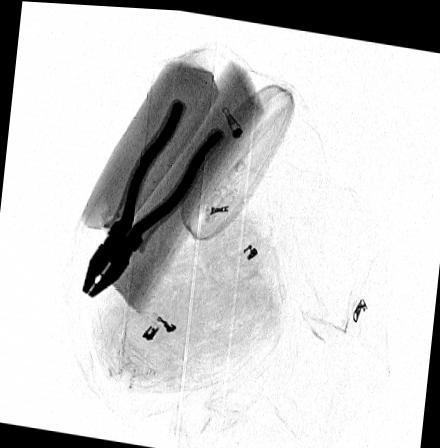Pliers: (82, 95, 222, 294)
